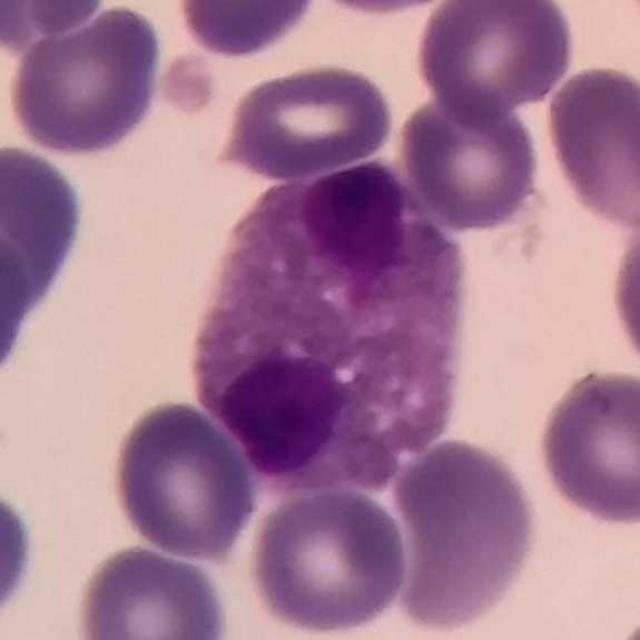Eosinophil: (178, 150, 484, 496)
Platelets: (159, 54, 219, 121)
RBC: (385, 433, 543, 634), (244, 485, 413, 638), (106, 396, 260, 562), (6, 2, 168, 159), (216, 58, 401, 180), (395, 90, 546, 233), (411, 0, 580, 121), (532, 365, 640, 530), (541, 60, 640, 231), (71, 541, 233, 640), (0, 137, 93, 305), (172, 0, 322, 61), (605, 202, 640, 382), (0, 225, 39, 380), (0, 0, 109, 49), (1, 490, 34, 608), (303, 0, 472, 18)
